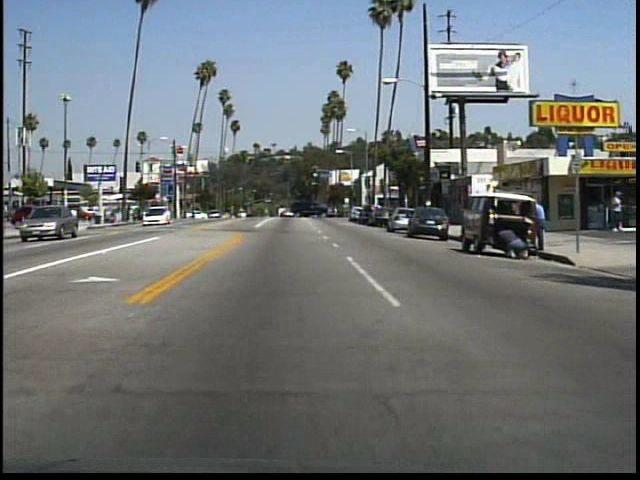person: (494, 224, 528, 264), (529, 198, 548, 252), (606, 186, 623, 237)
